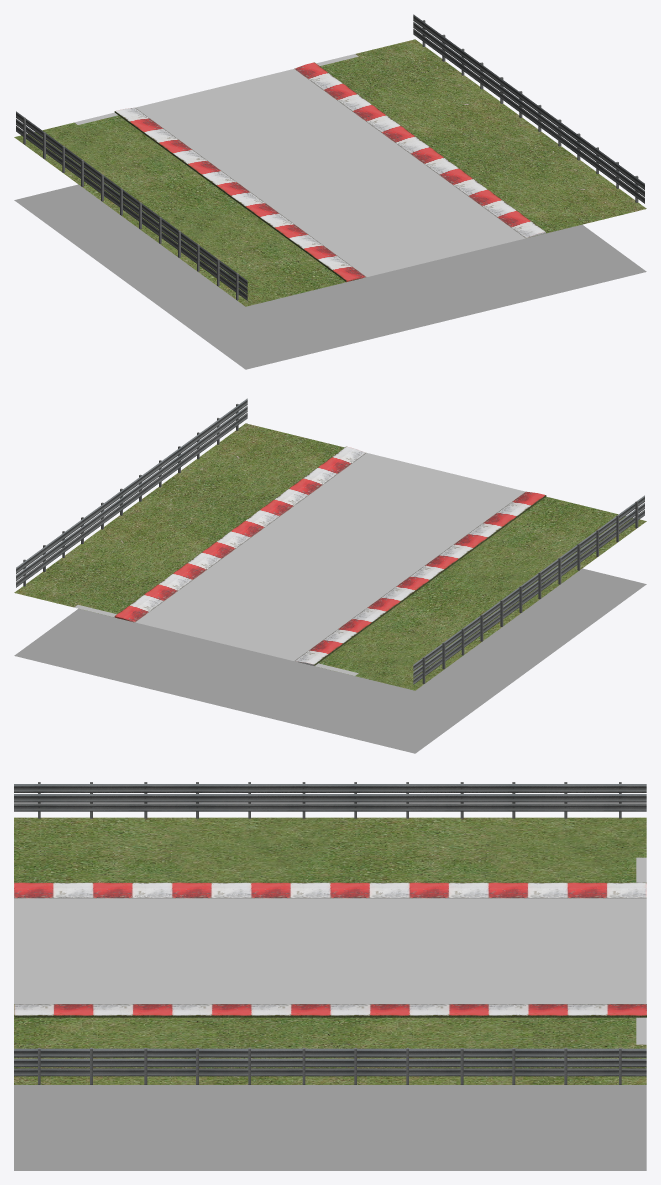
Rendered from Track_Thin_Join_A_Mobile.fbx.
3 renders of one model, top to bottom at view 1: azimuth 30°, elevation 25°; view 2: azimuth 150°, elevation 25°; view 3: azimuth 270°, elevation 25°, orthographic. The views are drawn at different scales.
Visible parts, largest first — view 1: Grass, Snap_Plane_Invisible, Road, Curb_B, Rail_B, Rail_A, Curb_A; view 2: Grass, Snap_Plane_Invisible, Road, Curb_B, Rail_A, Rail_B, Curb_A; view 3: Grass, Road, Snap_Plane_Invisible, Rail_B, Rail_A, Curb_A, Curb_B, Join_Lines.
Boxes of the visible parts, <box> form: Grass: <box>14,39,646,306</box>; Snap_Plane_Invisible: <box>14,184,646,369</box>; Road: <box>135,69,525,276</box>; Curb_B: <box>294,62,545,238</box>; Rail_B: <box>413,14,644,203</box>; Rail_A: <box>16,111,247,300</box>; Curb_A: <box>114,107,366,281</box>; Grass: <box>14,423,646,690</box>; Snap_Plane_Invisible: <box>14,568,646,753</box>; Road: <box>135,453,525,660</box>; Curb_B: <box>114,446,365,622</box>; Rail_A: <box>413,495,644,684</box>; Rail_B: <box>16,398,247,587</box>; Curb_A: <box>294,491,546,665</box>; Grass: <box>14,817,646,1084</box>; Road: <box>14,898,646,1003</box>; Snap_Plane_Invisible: <box>14,1085,646,1170</box>; Rail_B: <box>14,1048,646,1084</box>; Rail_A: <box>14,782,646,818</box>; Curb_A: <box>14,882,646,898</box>; Curb_B: <box>14,1004,646,1017</box>; Join_Lines: <box>636,857,646,1044</box>.
Size of the model in its own units: 20 by 4.24 by 20.01.
